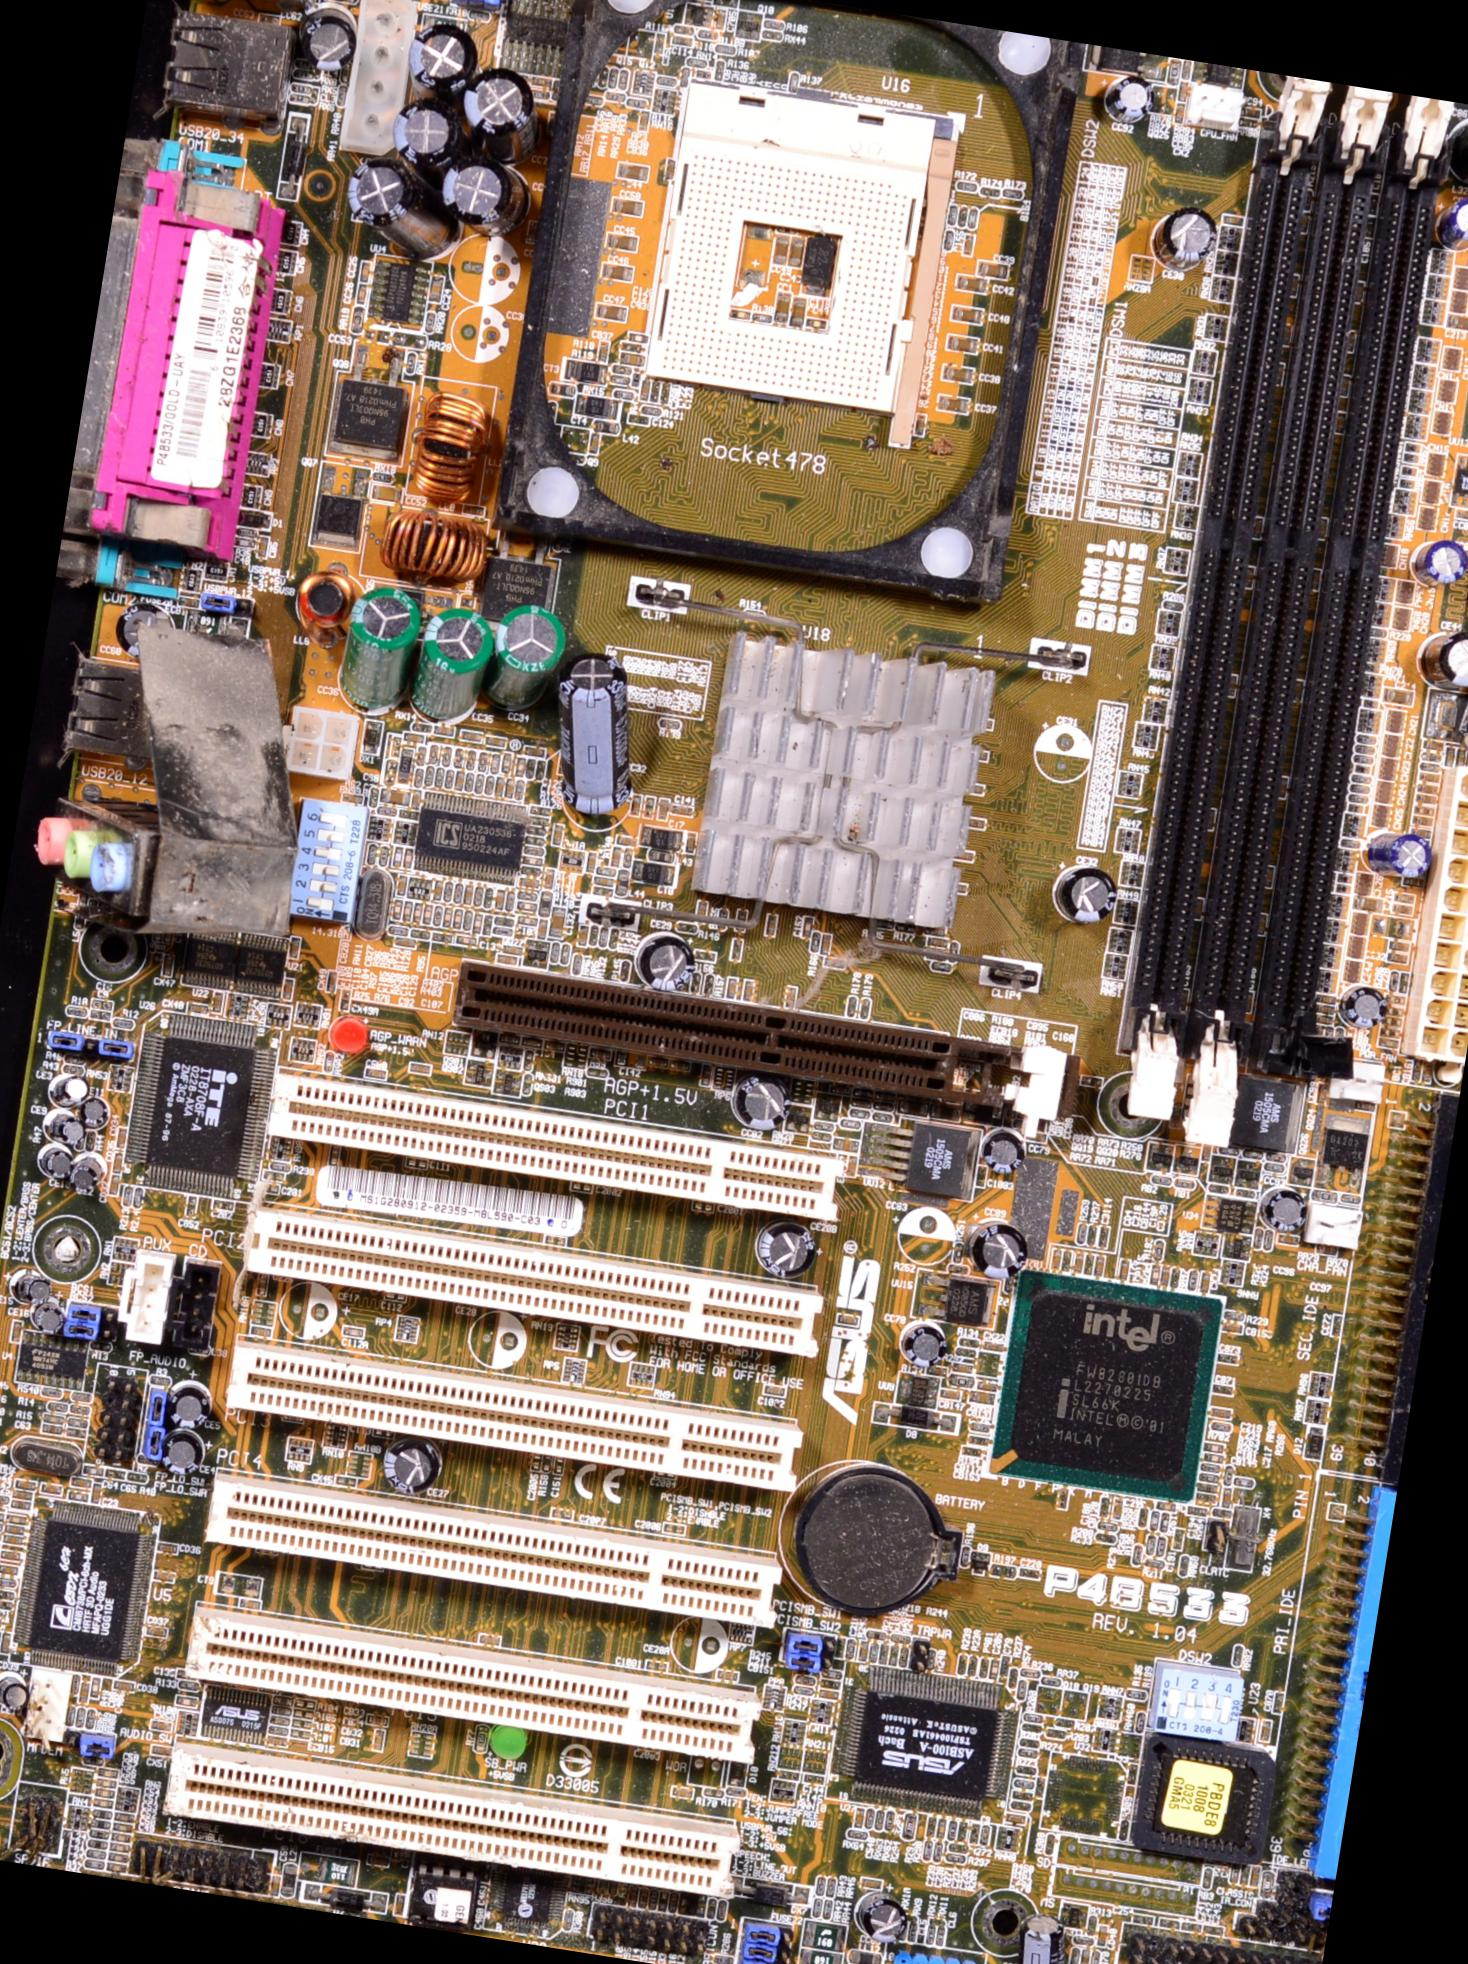Capacitor Jumper: (685, 627, 1001, 936), (375, 1435, 455, 1497), (961, 1215, 1032, 1283), (894, 1317, 951, 1367), (69, 1152, 109, 1198), (40, 1108, 88, 1147), (6, 1269, 54, 1304), (26, 1301, 66, 1338), (37, 1145, 74, 1181), (771, 290, 791, 325), (429, 273, 446, 304), (666, 802, 695, 819), (154, 1539, 180, 1557), (1070, 1250, 1087, 1278), (762, 1380, 786, 1398), (646, 376, 663, 402), (1109, 1492, 1124, 1520), (831, 1634, 848, 1659), (524, 814, 550, 829), (210, 988, 225, 1014), (1218, 1320, 1244, 1335), (965, 1389, 992, 1404), (549, 1505, 575, 1520), (1391, 900, 1414, 917), (1096, 1492, 1113, 1515), (965, 1822, 982, 1845), (498, 749, 513, 774), (979, 1338, 1004, 1354), (12, 1475, 37, 1491), (8, 1497, 32, 1512), (0, 1532, 25, 1548), (452, 768, 466, 794), (453, 934, 480, 948), (39, 1423, 65, 1437), (1247, 1862, 1261, 1888), (285, 934, 301, 957), (1095, 1226, 1110, 1249), (1220, 1463, 1235, 1486), (1409, 814, 1434, 828), (460, 729, 484, 743), (1391, 890, 1416, 903), (615, 832, 640, 846), (399, 899, 413, 923), (160, 954, 174, 979), (185, 1002, 210, 1016), (89, 997, 114, 1011), (362, 1067, 387, 1081), (339, 1324, 364, 1338), (660, 1522, 685, 1535), (102, 1466, 126, 1480), (998, 1651, 1012, 1676), (174, 1666, 199, 1680), (1002, 1811, 1027, 1825), (1412, 792, 1437, 806), (1178, 1919, 1200, 1935), (356, 259, 369, 285), (484, 734, 507, 748), (492, 888, 506, 911), (429, 930, 452, 943), (671, 32, 694, 46), (1147, 1263, 1161, 1286), (1081, 1253, 1095, 1276), (183, 1193, 197, 1216), (938, 1386, 961, 1400), (1201, 1438, 1224, 1452), (1200, 1449, 1223, 1463), (552, 1454, 566, 1477), (40, 1481, 63, 1495), (150, 1719, 173, 1733), (150, 1744, 173, 1757), (1018, 1565, 1038, 1580), (694, 899, 706, 923), (293, 1697, 318, 1710), (111, 1679, 136, 1691), (106, 1841, 131, 1853), (658, 381, 671, 405), (626, 413, 651, 425), (1414, 803, 1436, 817), (535, 919, 549, 940), (410, 900, 424, 922), (324, 970, 338, 991), (1047, 1249, 1061, 1270), (1210, 1381, 1232, 1395), (958, 1446, 985, 1457), (856, 1639, 870, 1660), (6, 1511, 28, 1525), (0, 1549, 22, 1563), (88, 1674, 102, 1696), (1095, 1924, 1109, 1946), (962, 233, 976, 254), (492, 775, 504, 799), (527, 803, 550, 816), (1397, 971, 1409, 994), (800, 914, 813, 937), (515, 899, 538, 911), (452, 906, 464, 930), (1275, 1232, 1298, 1244), (1092, 1252, 1104, 1275), (1061, 1249, 1073, 1272), (114, 1125, 126, 1148), (42, 1412, 65, 1424), (9, 1489, 32, 1502), (1271, 1691, 1283, 1714), (143, 1625, 167, 1637), (924, 1814, 936, 1838), (1201, 1924, 1224, 1936), (256, 535, 268, 558), (609, 846, 623, 866), (259, 1181, 279, 1195), (82, 1463, 102, 1477), (504, 775, 515, 800), (395, 873, 407, 894), (421, 902, 433, 923), (390, 899, 402, 920), (441, 905, 452, 930), (470, 913, 483, 934), (1198, 1270, 1210, 1292), (111, 1152, 123, 1173), (1217, 1352, 1238, 1364), (108, 1173, 120, 1195), (1155, 1500, 1177, 1512), (988, 1657, 1001, 1679), (817, 1677, 839, 1690), (291, 1707, 313, 1719), (288, 1727, 310, 1739), (109, 1831, 131, 1844), (106, 1851, 128, 1864), (1419, 769, 1440, 782), (527, 1454, 541, 1472), (0, 1563, 19, 1577), (1385, 950, 1408, 960), (520, 856, 543, 866), (515, 914, 538, 925), (495, 954, 518, 965), (1329, 1313, 1340, 1337), (63, 1426, 86, 1437), (69, 1478, 93, 1489), (887, 1643, 897, 1666), (934, 1816, 945, 1839), (79, 1680, 89, 1703), (233, 536, 256, 547), (1177, 82, 1189, 102), (213, 1198, 233, 1210), (967, 1434, 987, 1446), (853, 1807, 865, 1827), (93, 1798, 113, 1810), (114, 1811, 134, 1824), (1417, 782, 1437, 794), (501, 943, 523, 954), (879, 1642, 890, 1663), (290, 1717, 311, 1728), (94, 1777, 116, 1788), (94, 1787, 116, 1798), (111, 1822, 133, 1833), (105, 1861, 126, 1872), (956, 1821, 968, 1839), (353, 284, 365, 302), (513, 755, 524, 775), (1173, 102, 1184, 122), (5, 1523, 25, 1534), (817, 1690, 837, 1700), (483, 914, 492, 937), (99, 1767, 117, 1777), (433, 879, 443, 899), (597, 339, 608, 356), (1079, 1949, 1092, 1962), (0, 1508, 8, 1523)
Connector: (1081, 69, 1343, 1130), (1169, 83, 1399, 1161), (1232, 92, 1466, 1130), (159, 1733, 748, 1907), (217, 1332, 808, 1503), (183, 1596, 762, 1768), (197, 1465, 790, 1628), (244, 1206, 825, 1361), (268, 1074, 847, 1222), (1399, 755, 1466, 1079)
IC: (985, 1266, 1224, 1500), (116, 1004, 284, 1202), (823, 1660, 1022, 1824), (8, 1494, 163, 1680), (362, 251, 433, 331), (910, 1267, 999, 1327), (11, 1327, 89, 1392), (176, 917, 237, 990), (230, 930, 290, 997)
Resistor Jumper: (392, 328, 426, 351), (985, 1560, 1016, 1580), (347, 304, 367, 335), (1212, 1139, 1244, 1158), (1164, 57, 1183, 86), (558, 1905, 578, 1932), (265, 1158, 296, 1175), (655, 714, 683, 732), (951, 176, 978, 194), (62, 1002, 89, 1019), (976, 1822, 993, 1848), (335, 59, 352, 85), (604, 925, 620, 953), (842, 991, 857, 1019), (1050, 1714, 1078, 1730), (418, 310, 436, 333), (421, 762, 436, 788), (515, 874, 541, 890), (955, 1335, 981, 1350), (1129, 1540, 1144, 1566), (652, 74, 678, 89), (291, 66, 318, 82), (998, 185, 1024, 200), (1149, 1238, 1166, 1261), (1209, 1418, 1232, 1435), (35, 1384, 63, 1398), (481, 772, 497, 797), (557, 940, 572, 965), (1184, 1267, 1200, 1292), (130, 1185, 145, 1210), (683, 54, 708, 69), (63, 1415, 88, 1431), (964, 1653, 979, 1677), (700, 1784, 725, 1799), (370, 469, 395, 484), (956, 1545, 973, 1566), (481, 885, 495, 911), (1261, 1150, 1288, 1164), (1260, 1161, 1286, 1175), (62, 1051, 88, 1065), (59, 1064, 85, 1078), (119, 1182, 133, 1209), (1194, 1491, 1220, 1505), (1177, 1552, 1190, 1579), (955, 1651, 968, 1677), (83, 1856, 109, 1870), (287, 82, 313, 96), (287, 91, 313, 105), (430, 903, 446, 927), (857, 997, 873, 1021), (615, 959, 631, 982), (321, 1050, 336, 1073), (967, 1420, 990, 1435), (1152, 1534, 1167, 1557), (1229, 1642, 1244, 1665), (811, 1875, 827, 1898), (439, 745, 453, 769), (432, 765, 446, 789), (470, 883, 484, 908), (586, 923, 600, 948), (694, 28, 719, 42), (1261, 1226, 1274, 1253), (1092, 1531, 1116, 1545), (125, 1471, 150, 1485), (1005, 1665, 1019, 1690), (790, 1673, 814, 1687), (1019, 1710, 1044, 1724), (1018, 1720, 1042, 1734), (882, 1807, 896, 1831), (1084, 1913, 1098, 1938), (333, 83, 347, 108), (450, 745, 466, 766), (711, 59, 726, 80), (867, 1640, 882, 1662), (384, 923, 410, 936), (1147, 1509, 1160, 1535), (600, 88, 626, 100), (944, 1851, 970, 1864), (472, 771, 486, 794), (762, 17, 785, 31), (896, 920, 919, 934), (441, 879, 455, 902), (759, 28, 782, 42), (671, 20, 694, 34), (839, 1118, 862, 1132), (811, 1119, 834, 1133), (1084, 1224, 1098, 1247), (46, 1398, 69, 1412), (864, 1626, 887, 1640), (615, 66, 629, 89), (817, 1666, 840, 1680), (862, 1807, 876, 1830), (728, 307, 751, 321), (402, 350, 416, 373), (638, 402, 662, 416), (424, 743, 439, 763), (597, 923, 609, 948), (490, 923, 515, 936), (712, 42, 737, 54), (68, 1391, 93, 1403), (1013, 1764, 1038, 1776), (1042, 1831, 1055, 1856), (534, 758, 547, 780), (441, 766, 455, 788), (412, 766, 426, 788), (515, 888, 537, 902), (547, 940, 561, 962), (700, 973, 714, 994), (571, 953, 584, 974), (1172, 1176, 1194, 1190), (1143, 1555, 1164, 1569), (1018, 1736, 1039, 1750), (177, 1679, 199, 1693), (83, 1708, 97, 1730), (626, 96, 648, 109), (823, 1876, 837, 1898), (820, 1899, 834, 1921), (85, 1847, 106, 1861), (1180, 59, 1194, 80), (512, 777, 524, 800), (523, 834, 546, 846), (521, 845, 544, 857), (518, 865, 541, 877), (452, 879, 464, 902), (461, 908, 473, 931), (1251, 1226, 1263, 1249), (1198, 1461, 1221, 1474), (1197, 1472, 1220, 1485), (1095, 1518, 1118, 1531), (1144, 1532, 1157, 1555), (66, 1403, 89, 1415), (887, 1631, 910, 1643), (606, 65, 618, 88), (1010, 1790, 1033, 1802), (270, 1694, 293, 1707), (69, 1673, 82, 1696), (267, 1714, 290, 1727), (945, 1841, 968, 1853), (63, 1703, 76, 1727), (234, 526, 258, 538), (493, 914, 513, 928), (1243, 1145, 1263, 1159), (871, 1110, 891, 1124), (1224, 1309, 1244, 1323), (1126, 1687, 1146, 1700), (845, 1827, 865, 1841), (1420, 749, 1440, 763), (523, 757, 535, 779), (463, 769, 475, 791), (1388, 970, 1400, 991), (503, 890, 515, 911), (409, 928, 430, 940), (976, 1380, 998, 1392), (896, 1645, 908, 1666), (1015, 1747, 1036, 1759), (1010, 1777, 1035, 1788), (723, 1785, 745, 1798), (873, 1808, 885, 1830), (267, 1724, 288, 1736), (921, 1839, 933, 1861), (931, 1841, 944, 1862), (1419, 760, 1440, 772), (489, 754, 503, 772), (473, 751, 487, 769), (413, 745, 427, 763), (410, 721, 433, 732), (463, 882, 473, 905), (1149, 1173, 1172, 1184), (268, 1705, 291, 1716), (1201, 1867, 1212, 1890), (811, 1895, 822, 1918), (748, 311, 771, 322), (1382, 1016, 1402, 1028), (850, 1107, 870, 1119), (1019, 1668, 1039, 1680), (945, 1818, 958, 1838), (933, 1925, 945, 1946), (979, 183, 999, 196), (0, 1586, 15, 1602), (524, 825, 546, 836), (1382, 1005, 1403, 1016), (1379, 1027, 1400, 1037), (1377, 1037, 1399, 1048), (1232, 1477, 1254, 1488), (1197, 1481, 1218, 1492), (541, 1452, 552, 1474), (0, 1577, 19, 1589), (72, 1707, 85, 1725), (466, 748, 476, 768), (1075, 1222, 1086, 1243), (1039, 1674, 1059, 1685), (793, 1685, 813, 1696), (0, 1599, 15, 1613), (847, 1637, 856, 1659), (925, 1925, 934, 1946), (1160, 1512, 1170, 1529), (0, 1492, 8, 1505)
Transistor: (319, 355, 419, 462), (307, 459, 372, 553), (1079, 43, 1169, 85), (1169, 1144, 1201, 1178), (1204, 1155, 1237, 1187), (1146, 1139, 1175, 1172), (1147, 83, 1175, 114), (1234, 1158, 1260, 1189)
